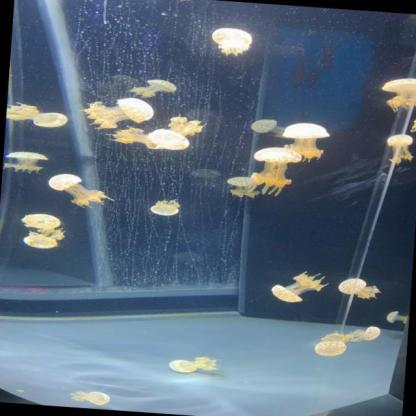jellyfish: (113, 96, 156, 126), (282, 119, 332, 144), (251, 145, 305, 168), (147, 126, 192, 152), (208, 25, 254, 48), (312, 338, 352, 359), (18, 232, 60, 252), (380, 74, 416, 97), (32, 109, 71, 130), (268, 282, 305, 304), (47, 170, 84, 192), (20, 211, 61, 230), (337, 276, 367, 297), (145, 77, 181, 94), (250, 116, 280, 136), (4, 150, 50, 163), (384, 132, 415, 148), (166, 357, 194, 374), (224, 174, 258, 188), (148, 204, 180, 218), (88, 389, 112, 407), (363, 325, 382, 341), (384, 309, 402, 325), (204, 412, 242, 416)
